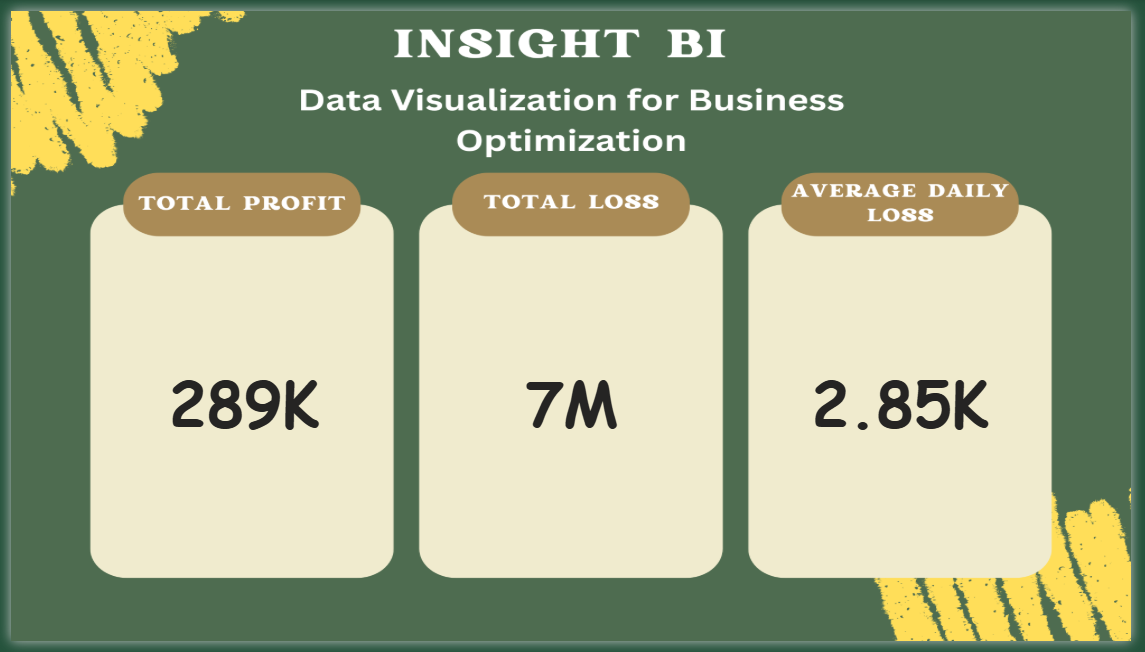

The page's visual inventory and layout, read from the dashboard file:
{"tool":"powerbi","page":{"name":"Page 2","canvas":[1280,720],"ordinal":1},"visuals":[{"type":"card","fields":{"Values":["Measure_Table.Total_Profit"]},"box":[127.3,303.9,279.2,280.5],"z":0},{"type":"card","fields":{"Values":["Measure_Table.Total_Loss"]},"box":[501.3,303.9,279.2,280.5],"z":1000},{"type":"card","fields":{"Values":["Measure_Table.Average_Daily_Loss"]},"box":[876.6,303.9,279.2,280.5],"z":2000}]}

Visuals, with their boxes in screenshot pixels (x1, y1, x2, y2), scaled from the page's 1280x720 canvas onto the 1145x652 screenshot:
card - Measure_Table.Total_Profit: BBox(114, 275, 364, 529)
card - Measure_Table.Total_Loss: BBox(448, 275, 698, 529)
card - Measure_Table.Average_Daily_Loss: BBox(784, 275, 1034, 529)
